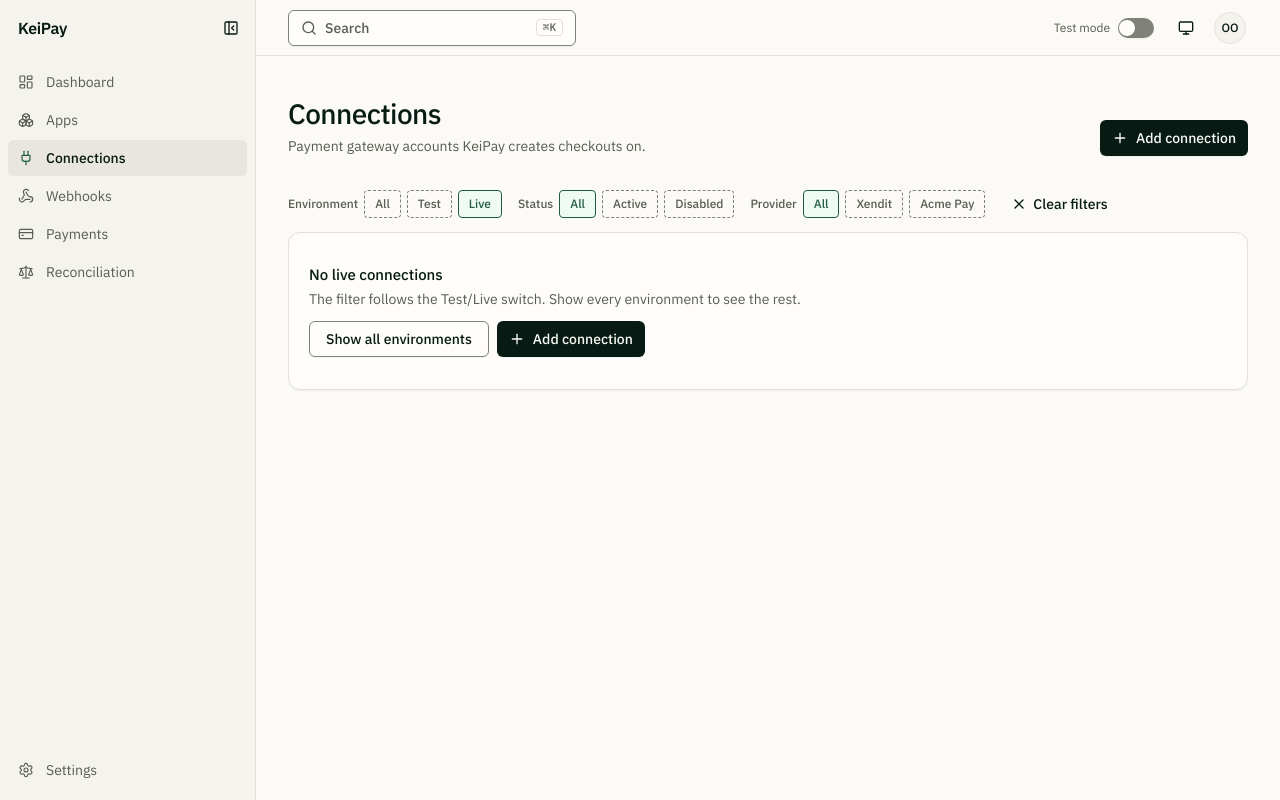
it: Connections page › shows the filtered empty state with Clear filters
Expected: the element with test id "empty-state" is shown, [288, 232, 1248, 390]
Click the button "Disabled" at (699, 204), box [664, 190, 734, 218]
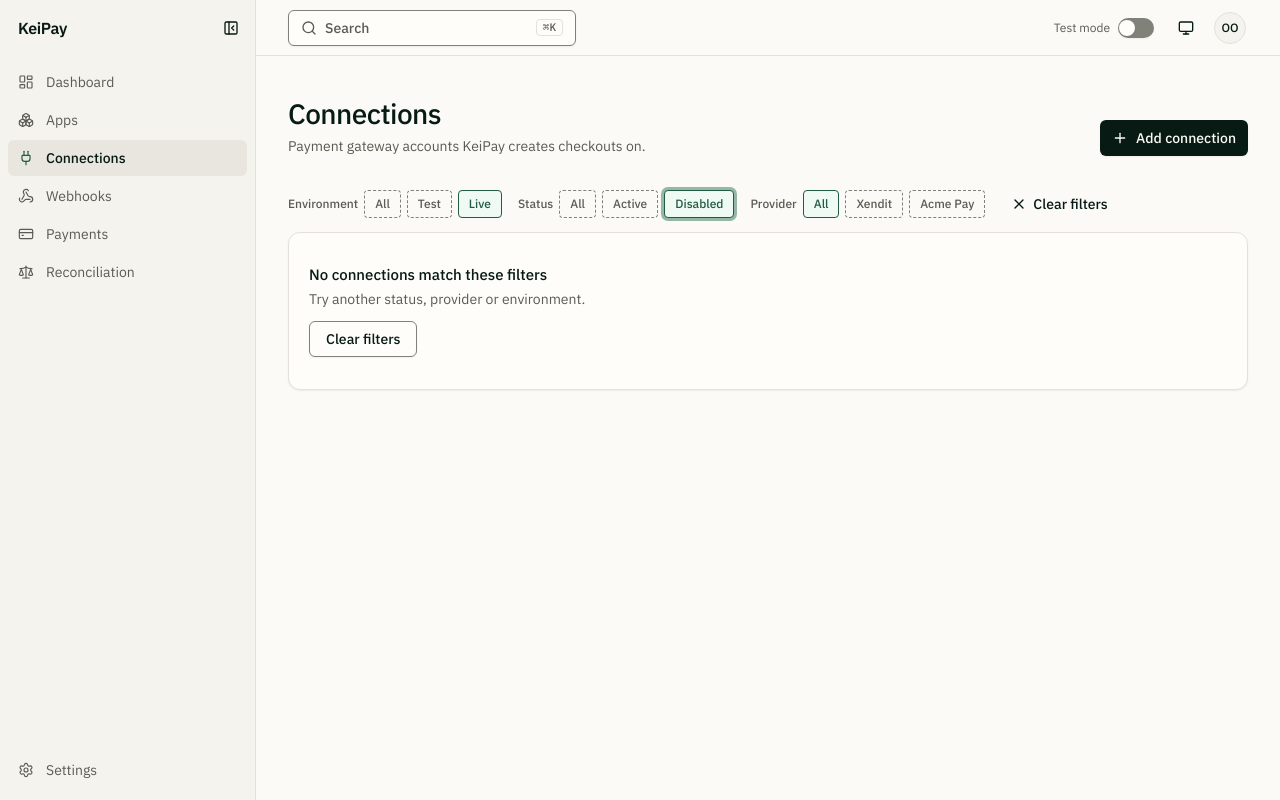
Expected: the heading "No connections match these filters" is shown, [309, 265, 585, 285]
Click the button "Clear filters" below "No connections match these filters" at (363, 339), box [309, 321, 417, 357]
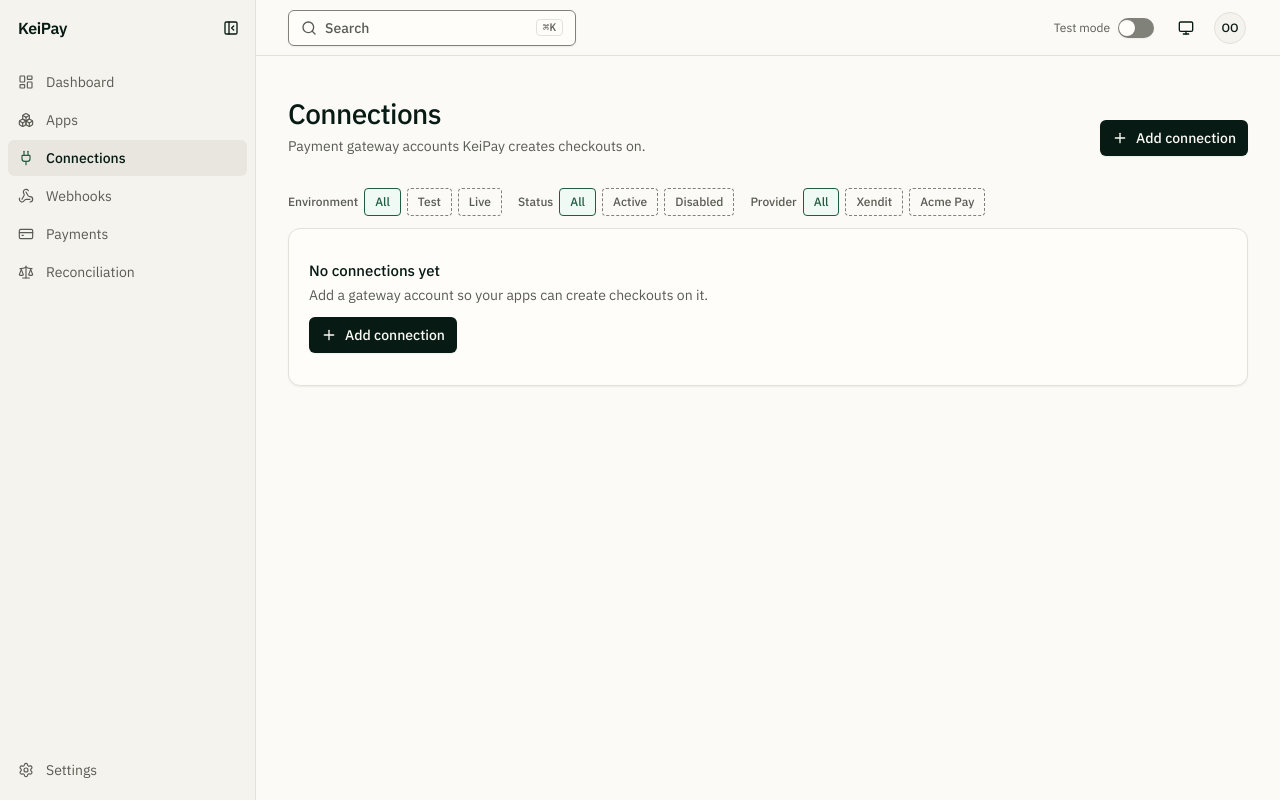
Expected: the heading "No connections yet" is shown, [309, 261, 440, 280]
